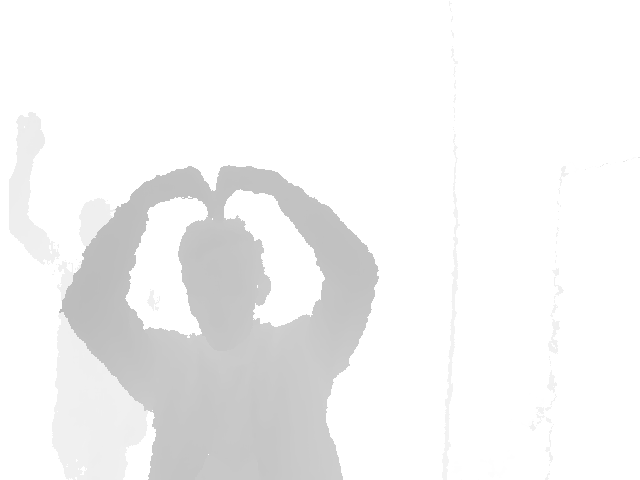hand: (213, 164, 277, 222), (159, 166, 217, 221), (15, 114, 47, 164)
head: (176, 217, 270, 358), (78, 197, 114, 258)
person: (59, 165, 379, 480), (10, 111, 147, 480)
